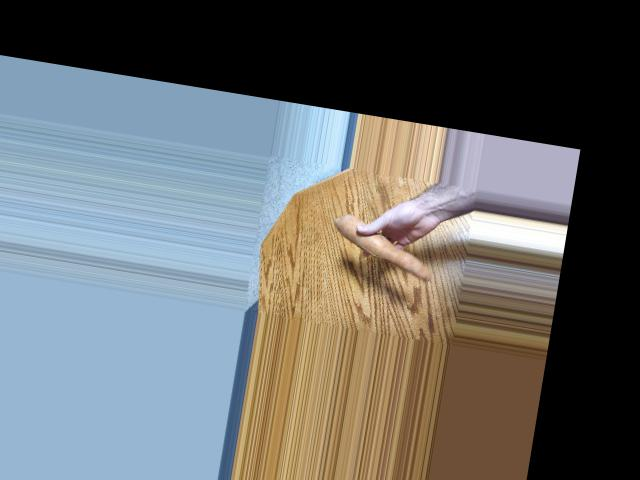sweet_potato: (325, 223, 438, 274)
